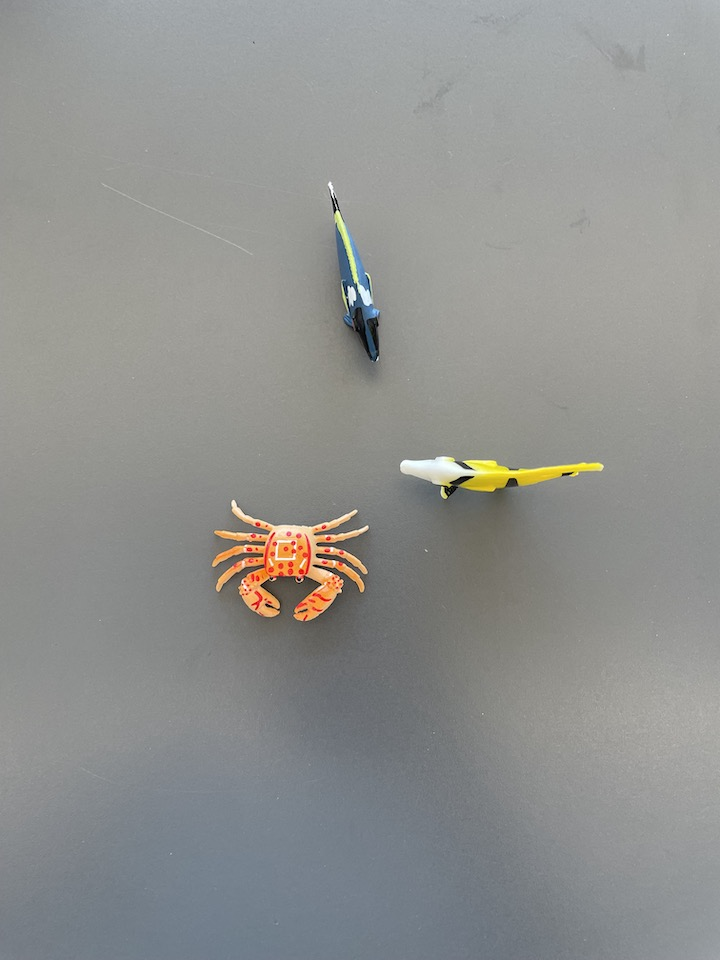crab: (211, 498, 368, 625)
danger: (396, 454, 605, 506)
fish: (327, 177, 389, 363)
